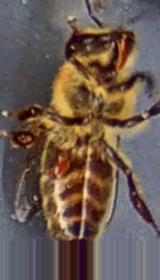varroa_mite: (52, 155, 80, 180)
